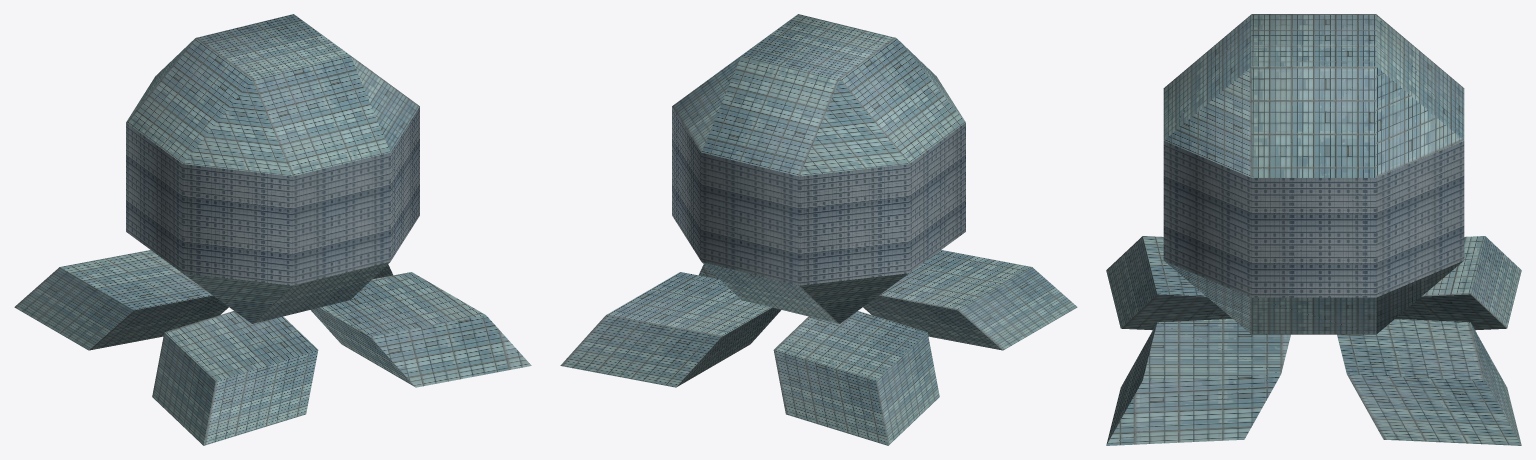
File: build_type1.FBX
3 renders of one model, left to right at view 1: azimuth 30°, elevation 25°; view 2: azimuth 150°, elevation 25°; view 3: azimuth 270°, elevation 25°, orthographic. The views are drawn at different scales.
Visible parts, largest first — view 1: Cylinder001, Object001, Rectangle001, Rectangle003, Rectangle010, Object003; view 2: Cylinder001, Object001, Rectangle010, Rectangle002, Rectangle001, Object003; view 3: Object001, Cylinder001, Rectangle002, Rectangle003, Object003, Rectangle001, Rectangle010.
Boxes of the visible parts, box(x1,y1,x2,y2) form: Cylinder001: box(126, 106, 419, 285); Object001: box(126, 14, 419, 176); Rectangle001: box(152, 311, 318, 445); Rectangle003: box(311, 272, 531, 387); Rectangle010: box(14, 250, 228, 350); Object003: box(183, 262, 389, 323); Cylinder001: box(672, 106, 965, 285); Object001: box(672, 14, 965, 176); Rectangle010: box(773, 311, 939, 445); Rectangle002: box(560, 272, 780, 387); Rectangle001: box(863, 250, 1077, 350); Object003: box(702, 262, 908, 323); Object001: box(1163, 14, 1464, 177); Cylinder001: box(1163, 141, 1464, 297); Rectangle002: box(1337, 319, 1521, 445); Rectangle003: box(1106, 319, 1290, 445); Object003: box(1164, 261, 1463, 334); Rectangle001: box(1106, 236, 1232, 330); Rectangle010: box(1395, 236, 1521, 330).
Bounding box in the file's own units: 134 × 113 × 134.
2 materials, 2 textured.
